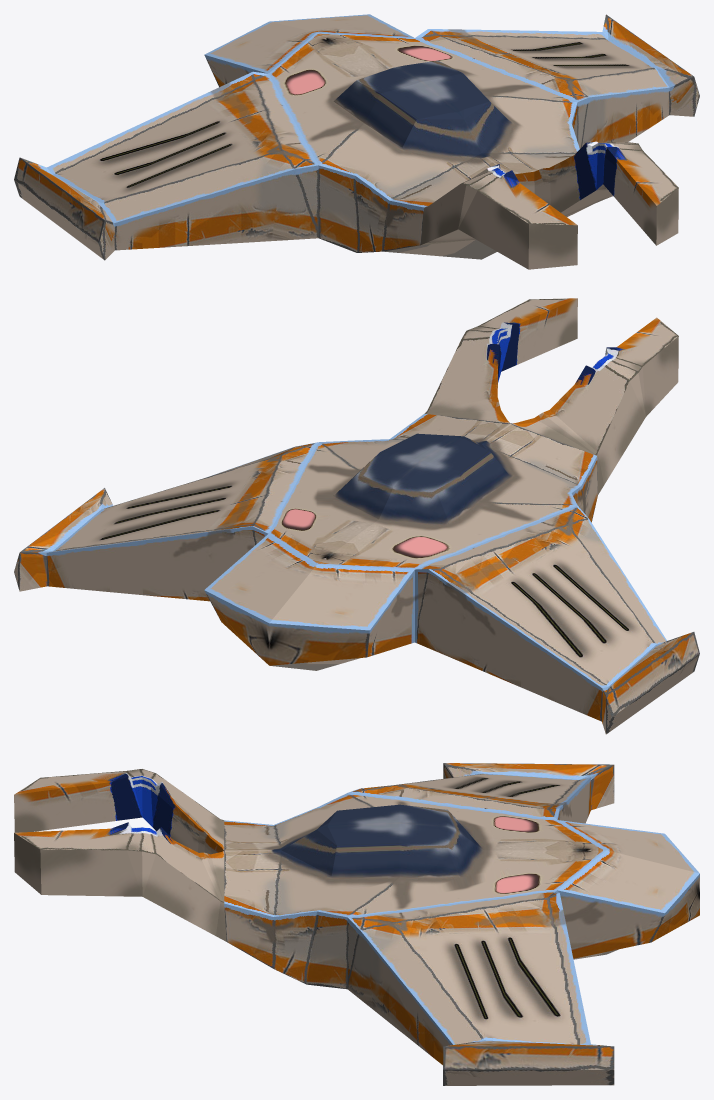
File: shipHero.fbx
The picture shows the model from 3 angles, top to bottom: view 1: azimuth 30°, elevation 25°; view 2: azimuth 150°, elevation 25°; view 3: azimuth 270°, elevation 25°; orthographic projection.
Parts seen in each view (by area): view 1: Cube.001; view 2: Cube.001; view 3: Cube.001.
Part boxes in pixels (left/top/right/bottom): Cube.001: left=14, top=14, right=699, bottom=269; Cube.001: left=14, top=298, right=699, bottom=734; Cube.001: left=14, top=763, right=699, bottom=1085.
Size of the model in its own units: 992 by 281 by 995.
